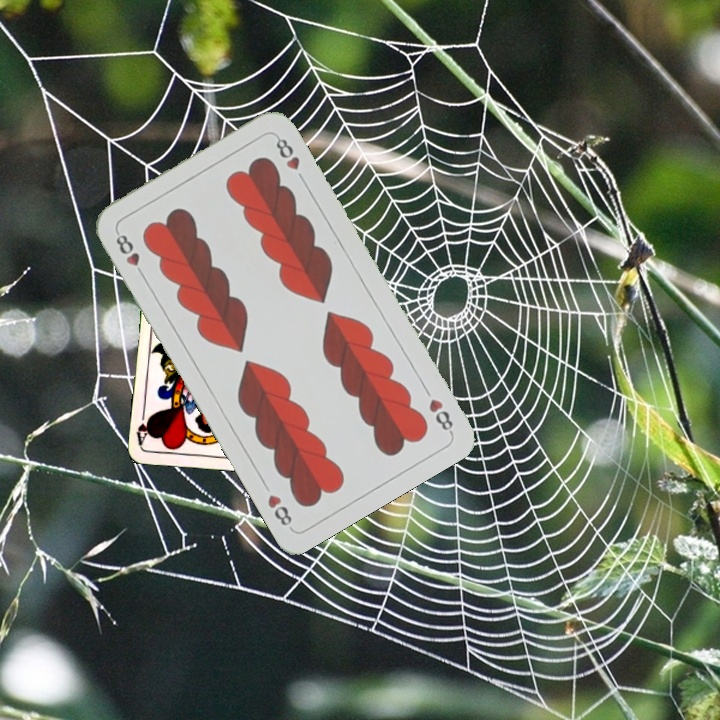H8: (111, 227, 148, 280), (424, 394, 456, 436)
